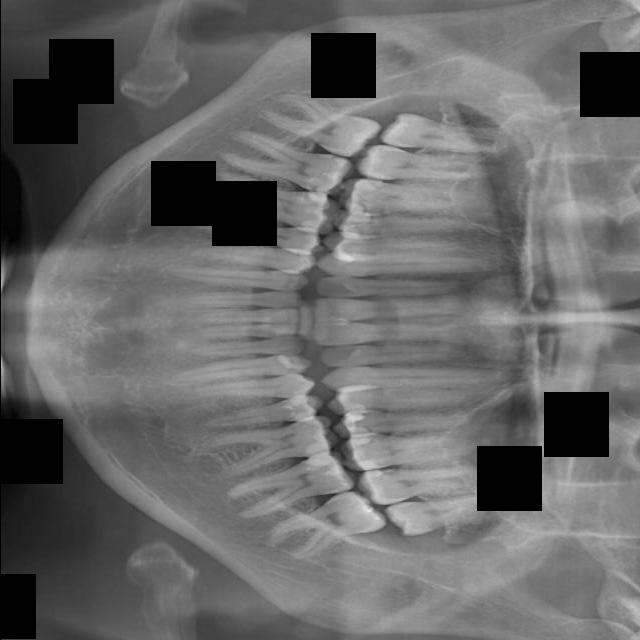3M ESPE Implant: (378, 110, 511, 162)
AGS Medikal Implant: (219, 445, 361, 526)
AMerOss Implant: (198, 412, 342, 483)
Amalgam filling: (355, 142, 493, 192)
Anthogyr Implant: (200, 392, 327, 438)
Bicon Implant: (192, 375, 316, 404)
BioHorizons Implant: (167, 352, 314, 385)
BioLife Implant: (186, 334, 307, 367)
Biomet 3i Implant: (192, 323, 298, 339)
Blue Sky Bio Implant: (191, 309, 302, 324)
Camlog Implant: (182, 291, 302, 308)
Caries: (317, 338, 468, 368)
Composite filling: (164, 262, 310, 292)
Cowellmedi Implant: (185, 237, 318, 275)
Crown: (184, 207, 327, 257)
DENTSPLY Implant: (460, 198, 470, 199)
Dentatus Implant: (200, 168, 341, 240)
Dentis Implant: (217, 124, 360, 203)
Dentium Implant: (251, 81, 384, 166)
Euroteknika Implant: (339, 209, 340, 209)
Filling: (324, 231, 467, 261)
Frontier Implant: (317, 252, 497, 279)
Hiossen Implant: (320, 359, 513, 393)
Implant: (310, 297, 467, 324)
Implant Direct: (315, 276, 462, 303)
Keystone Dental Implant: (309, 315, 473, 348)
MIS Implant: (326, 382, 491, 418)
Mandible: (332, 404, 472, 439)
Maxilla: (338, 423, 481, 473)
Megagen Implant: (354, 462, 499, 507)
Neodent Implant: (383, 491, 510, 539)
Neoss Implant: (259, 481, 389, 571)
